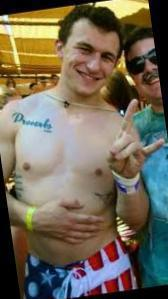Drunk: (66, 19, 117, 94)
